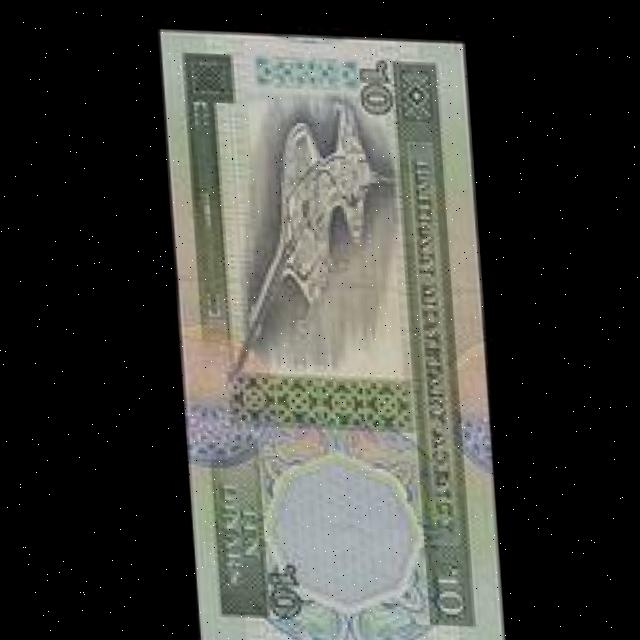banknote: (159, 17, 500, 640)
